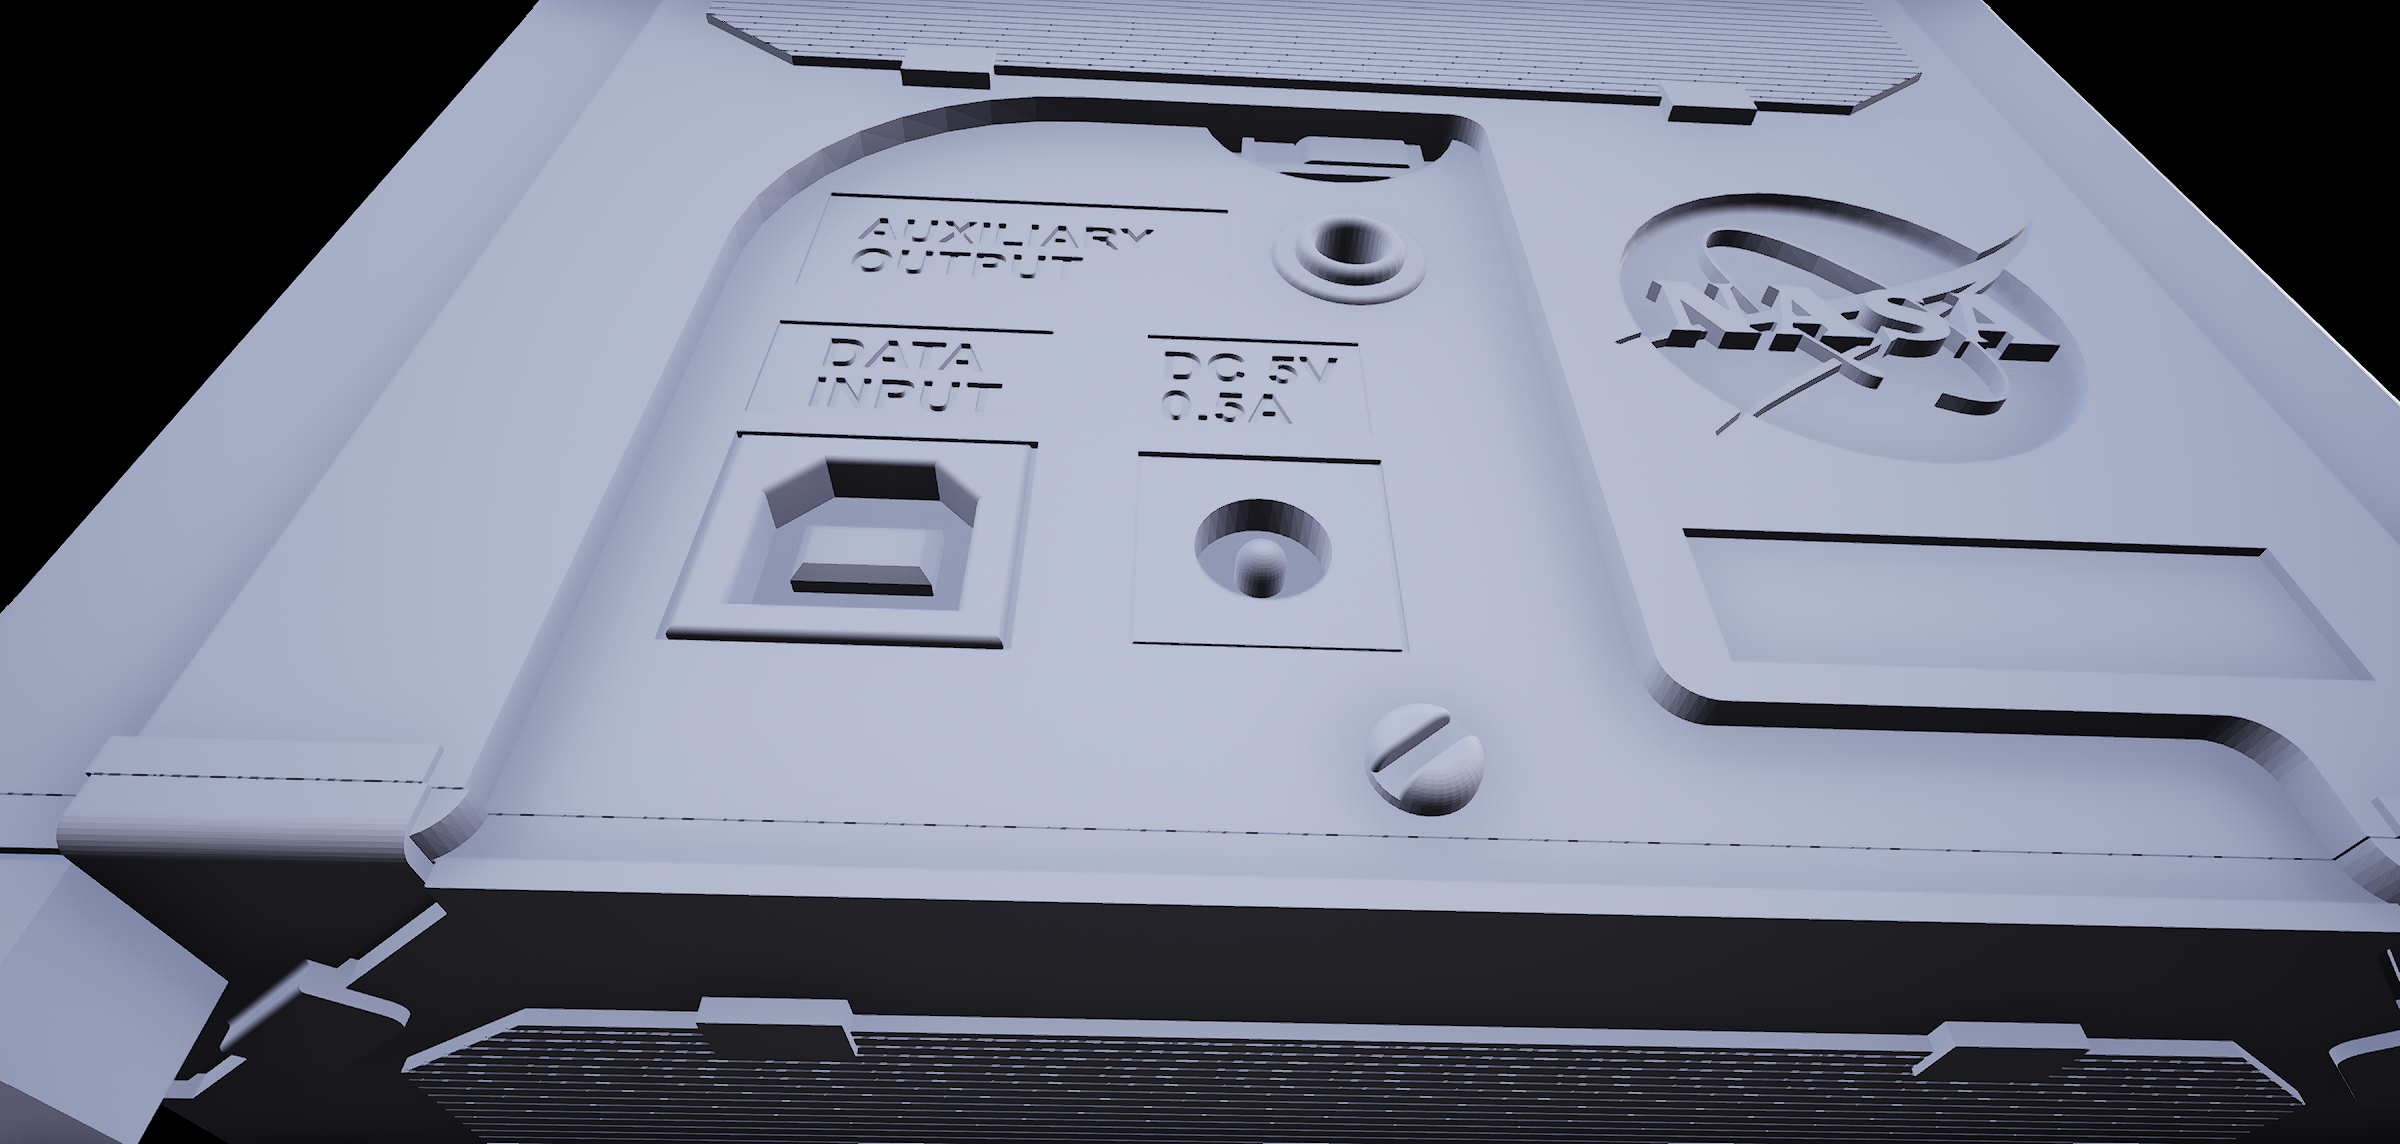aux: (1263, 199, 1440, 317)
dc: (1188, 482, 1341, 616)
usb: (758, 443, 987, 639)
